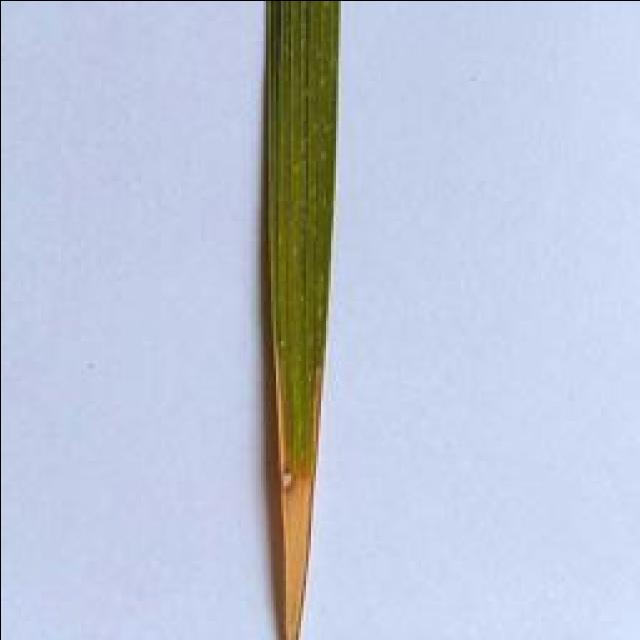Unhealthy: (272, 337, 320, 639)
